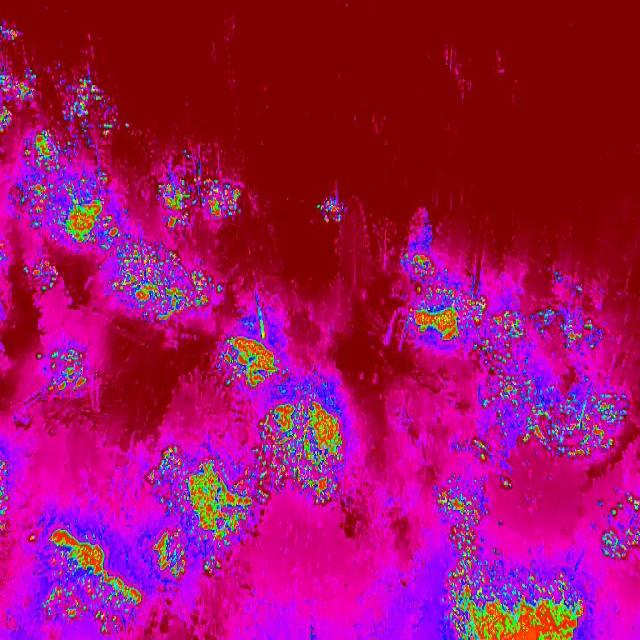fire: (470, 302, 636, 464), (146, 450, 262, 588), (13, 127, 126, 245), (39, 516, 148, 634), (108, 229, 230, 327), (446, 564, 600, 640), (258, 396, 355, 504), (141, 143, 245, 241), (401, 254, 488, 348), (214, 310, 288, 400), (426, 482, 502, 563), (52, 70, 130, 138), (32, 342, 102, 417), (0, 22, 38, 138), (592, 483, 640, 567), (300, 196, 348, 232), (18, 257, 56, 292)
